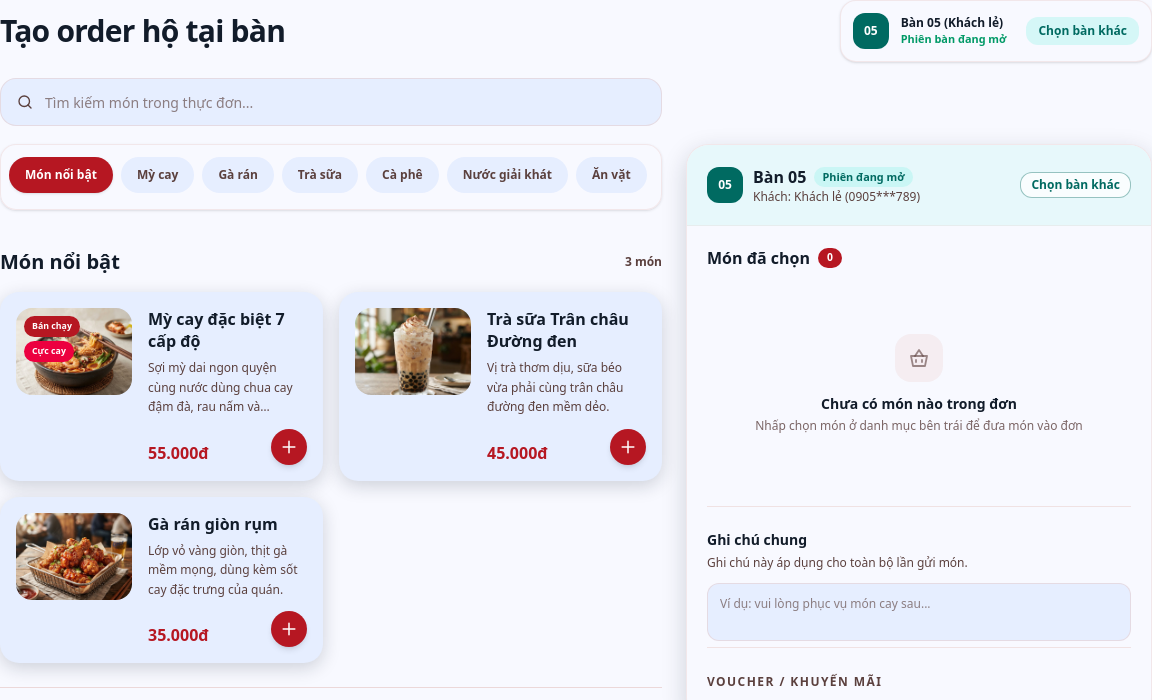
Test: OperatorOrderCreationView › allows selecting a different table to serve via table selector modal
Click the button "Chọn bàn khác" next to "Phiên bàn đang mở": (1083, 31) [1026, 17, 1139, 45]
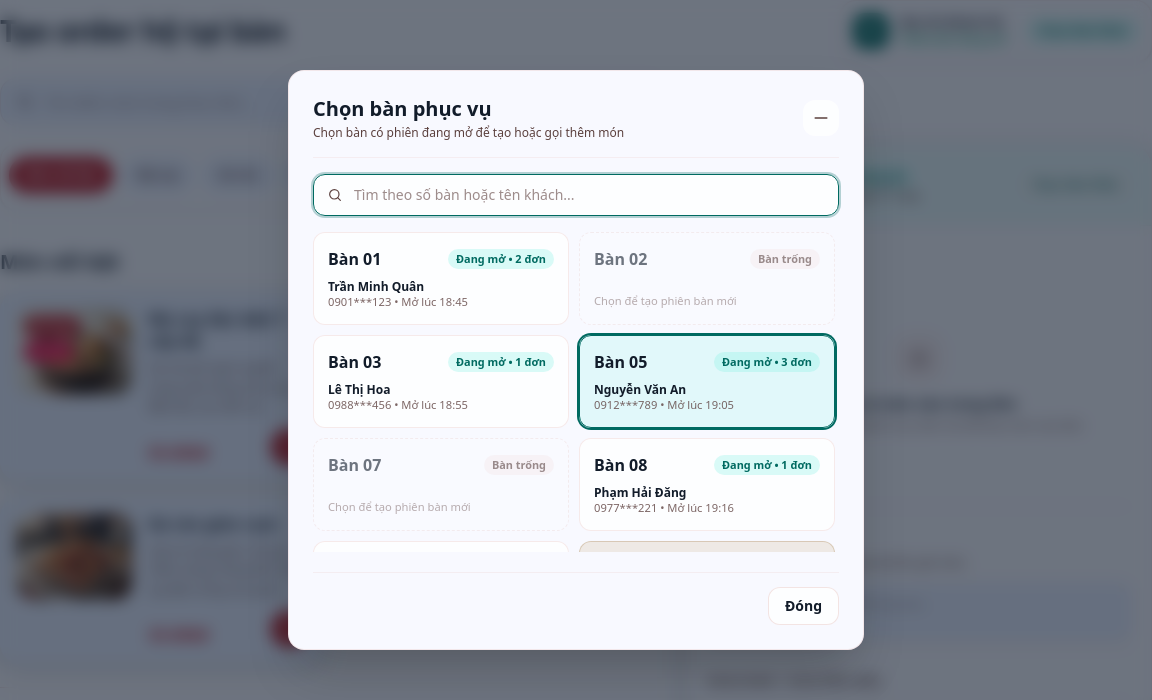
Expected: the heading "Chọn bàn phục vụ" is shown, [313, 95, 492, 122]
Click the button "Bàn 01": (441, 278) [313, 232, 569, 325]
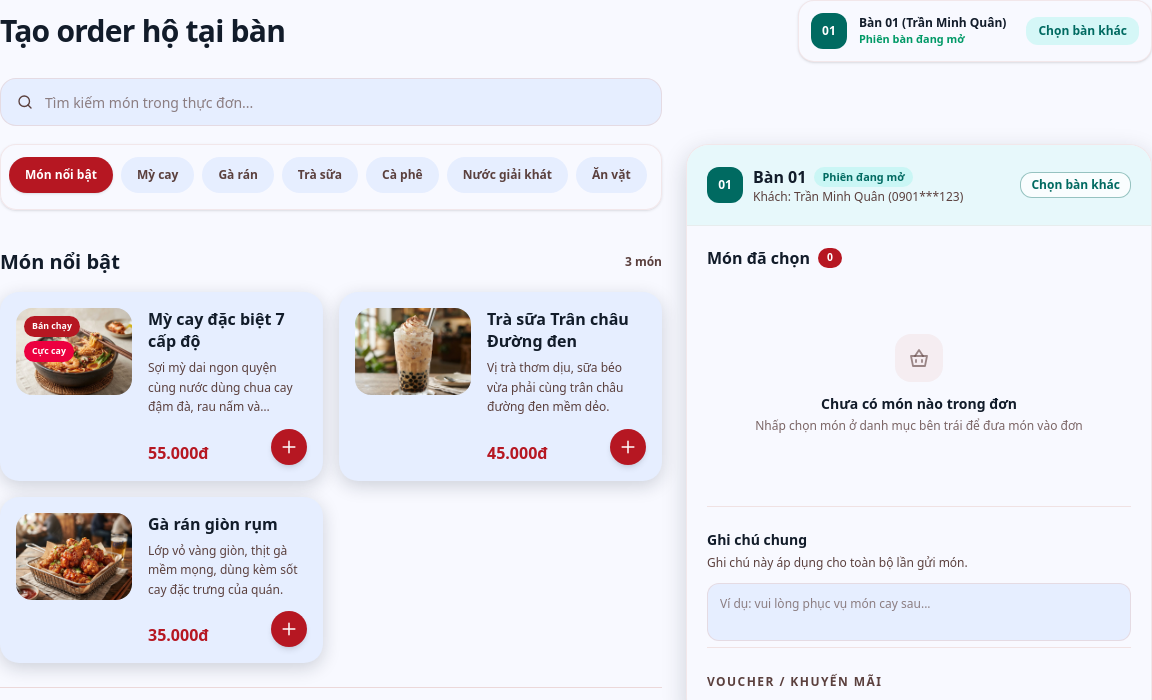
Expected: the text "Bàn 01 (Trần Minh Quân)" is shown, [859, 15, 1006, 31]
